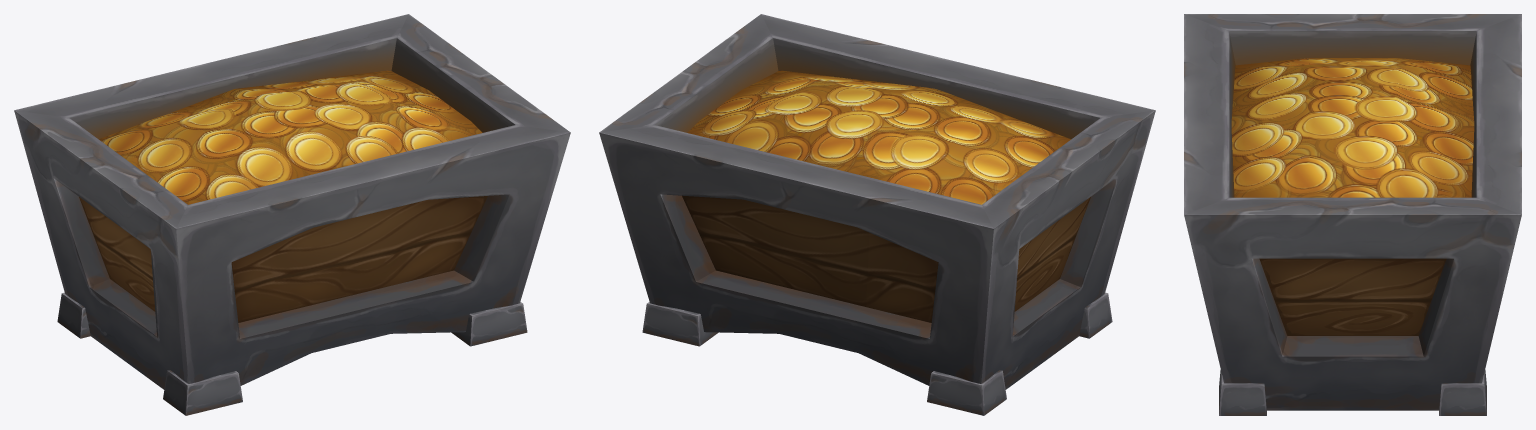
Rendered from Chest.FBX.
3 views of the same model, side by side, from view 1: azimuth 30°, elevation 25°; view 2: azimuth 150°, elevation 25°; view 3: azimuth 270°, elevation 25° (orthographic). The views are drawn at different scales.
Parts seen in each view (by area): view 1: Chest; view 2: Chest; view 3: Chest.
Boxes of the visible parts, x1,y1,x2,y2 form: Chest: (14,14,570,415); Chest: (599,14,1155,415); Chest: (1184,14,1521,415).
Size of what is drawn, in the model's own units: 252 by 179 by 132.
